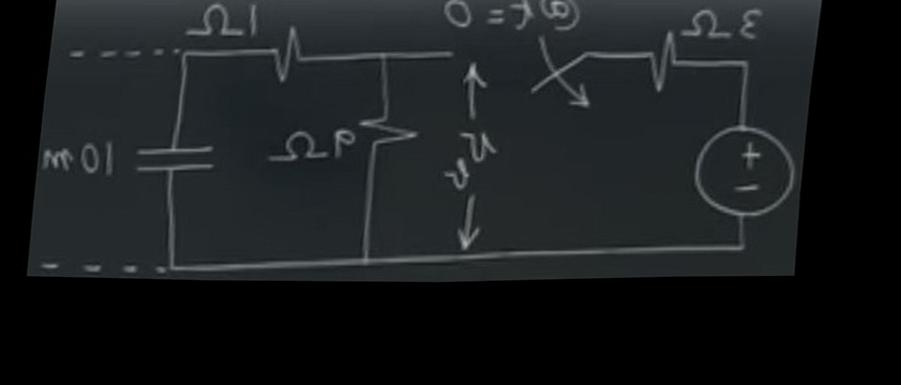Battery: (677, 116, 818, 238)
